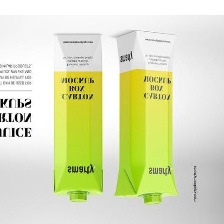carton: (111, 25, 186, 205), (50, 32, 105, 202)
